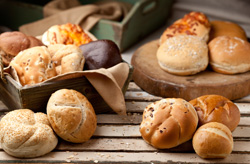hamburger_buns: (140, 89, 246, 157), (1, 87, 93, 150)
